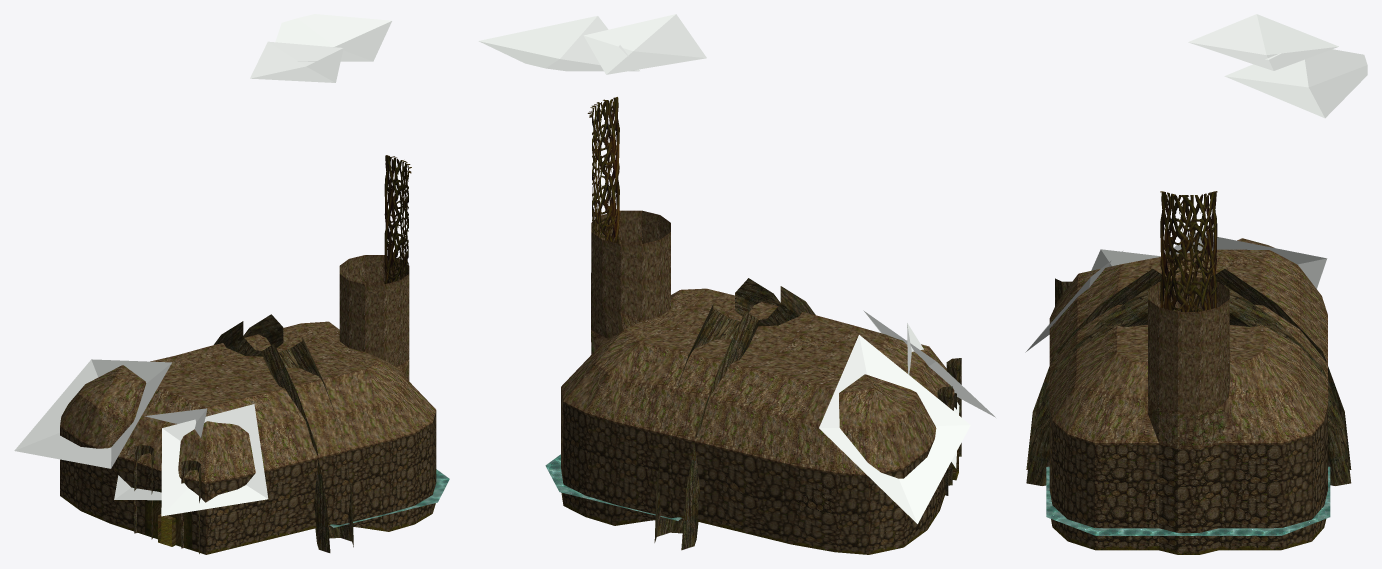
The picture shows the model from 3 angles, left to right: view 1: azimuth 30°, elevation 25°; view 2: azimuth 150°, elevation 25°; view 3: azimuth 270°, elevation 25°; orthographic projection. The views are drawn at different scales.
Parts seen in each view (by area): view 1: inside_the_deku_tree_09.dmx, inside_the_deku_tree_09.dmx.003, inside_the_deku_tree_09.dmx.001, inside_the_deku_tree_09.dmx.005, inside_the_deku_tree_09.dmx.007, VINES, inside_the_deku_tree_09.dmx.006, inside_the_deku_tree_09.dmx.002; view 2: inside_the_deku_tree_09.dmx, inside_the_deku_tree_09.dmx.003, inside_the_deku_tree_09.dmx.005, inside_the_deku_tree_09.dmx.001, inside_the_deku_tree_09.dmx.007, VINES, inside_the_deku_tree_09.dmx.002; view 3: inside_the_deku_tree_09.dmx.003, inside_the_deku_tree_09.dmx, inside_the_deku_tree_09.dmx.005, inside_the_deku_tree_09.dmx.001, inside_the_deku_tree_09.dmx.007, VINES, inside_the_deku_tree_09.dmx.002.
Part boxes in pixels (left/top/right/bottom): inside_the_deku_tree_09.dmx: left=60, top=322, right=436, bottom=482; inside_the_deku_tree_09.dmx.003: left=60, top=411, right=436, bottom=554; inside_the_deku_tree_09.dmx.001: left=14, top=14, right=391, bottom=516; inside_the_deku_tree_09.dmx.005: left=115, top=255, right=409, bottom=407; inside_the_deku_tree_09.dmx.007: left=134, top=314, right=353, bottom=553; VINES: left=89, top=155, right=411, bottom=498; inside_the_deku_tree_09.dmx.006: left=145, top=488, right=192, bottom=550; inside_the_deku_tree_09.dmx.002: left=330, top=469, right=449, bottom=527; inside_the_deku_tree_09.dmx: left=561, top=290, right=954, bottom=474; inside_the_deku_tree_09.dmx.003: left=561, top=387, right=954, bottom=554; inside_the_deku_tree_09.dmx.005: left=591, top=210, right=886, bottom=393; inside_the_deku_tree_09.dmx.001: left=478, top=14, right=995, bottom=523; inside_the_deku_tree_09.dmx.007: left=654, top=278, right=961, bottom=550; VINES: left=587, top=97, right=931, bottom=531; inside_the_deku_tree_09.dmx.002: left=545, top=454, right=681, bottom=520; inside_the_deku_tree_09.dmx.003: left=1049, top=406, right=1327, bottom=554; inside_the_deku_tree_09.dmx: left=1049, top=238, right=1327, bottom=447; inside_the_deku_tree_09.dmx.005: left=1117, top=238, right=1268, bottom=412; inside_the_deku_tree_09.dmx.001: left=1025, top=14, right=1367, bottom=352; inside_the_deku_tree_09.dmx.007: left=1026, top=268, right=1351, bottom=485; VINES: left=1160, top=191, right=1217, bottom=311; inside_the_deku_tree_09.dmx.002: left=1046, top=466, right=1330, bottom=535.
Size of the model in its own units: 32.93 by 33.29 by 21.84.
